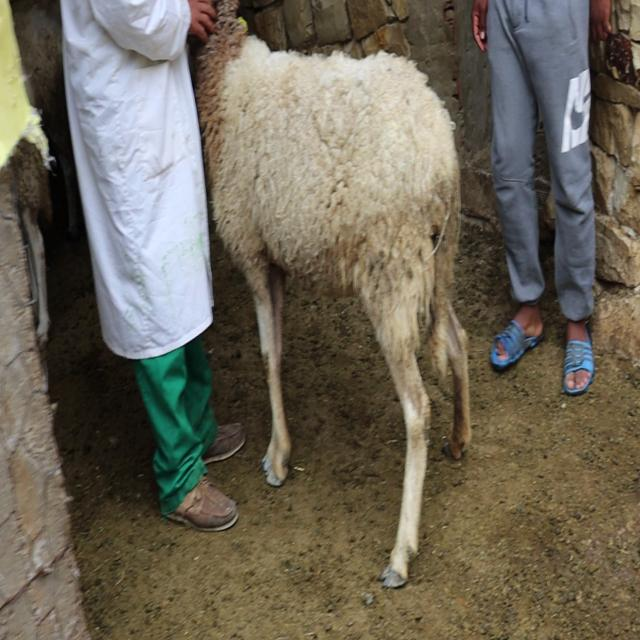Score_2: (196, 0, 471, 587)
